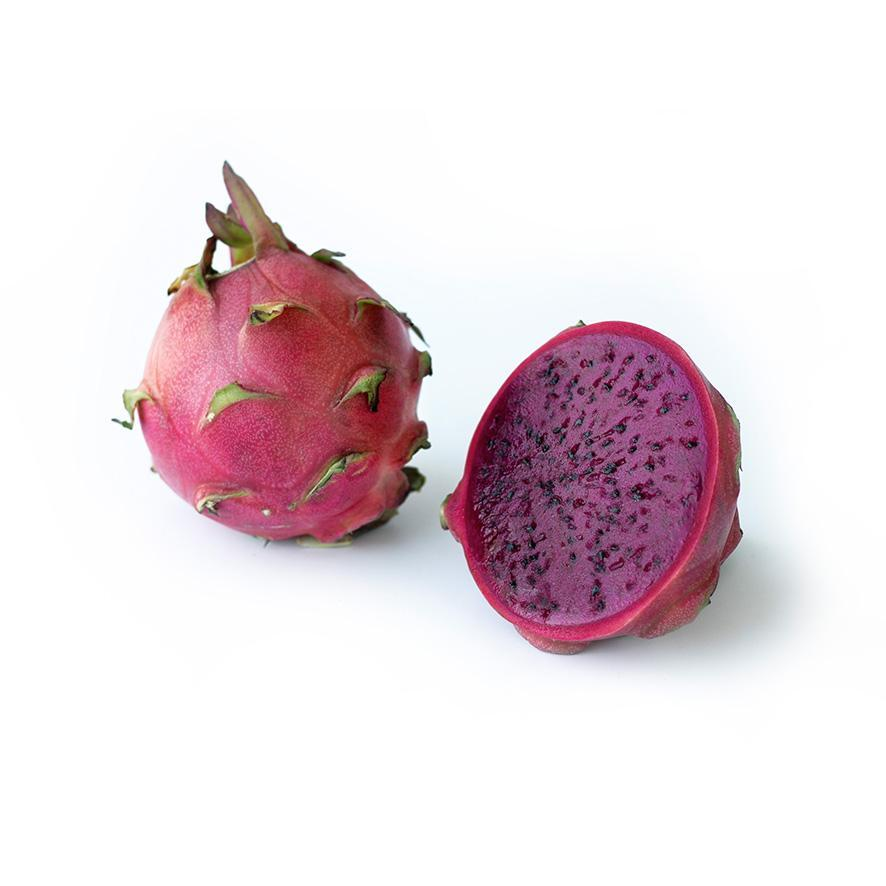dragon-fruit: (457, 318, 746, 646), (136, 247, 423, 544)
